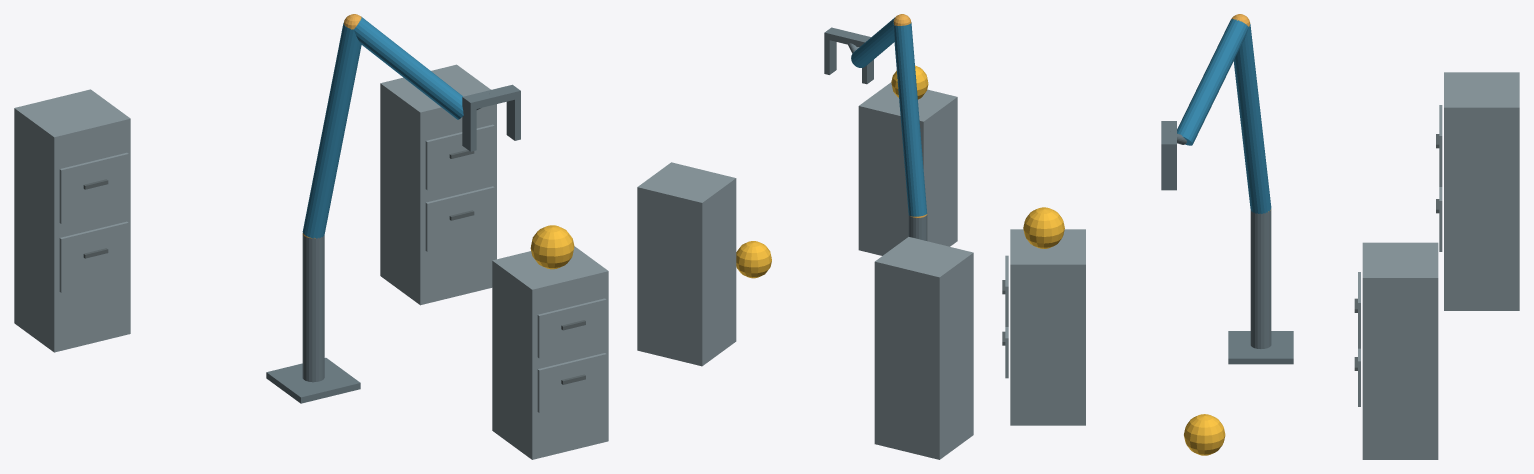
3 views of the same model, side by side, from view 1: azimuth 30°, elevation 25°; view 2: azimuth 150°, elevation 25°; view 3: azimuth 270°, elevation 25° (orthographic). The views are drawn at different scales.
Parts seen in each view (by area): view 1: cabinet_3 body, cabinet_2 body, cabinet_1 body, moving link 1, cabinet_3 drawer front.001, cabinet_3 drawer front, cabinet_2 drawer front, fixed post, cabinet_2 drawer front.001, cabinet_1 drawer front.001, cabinet_1 drawer front, moving link 2 (+4 smaller); view 2: cabinet_3 body, cabinet_2 body, cabinet_1 body, moving link 1, ball ball_2, moving link 2, gripper bridge, released ball_1, fixed post, gripper finger 1; view 3: cabinet_3 body, cabinet_2 body, cabinet_1 body, moving link 1, fixed post, moving link 2, pedestal, released ball_1, ball ball_2, gripper finger 1.
Boxes of the visible parts, box(x1,y1,x2,y2) form: cabinet_3 body: box(14, 89, 130, 352); cabinet_2 body: box(380, 64, 496, 305); cabinet_1 body: box(492, 246, 608, 459); moving link 1: box(302, 22, 361, 238); cabinet_3 drawer front.001: box(59, 152, 128, 223); cabinet_3 drawer front: box(59, 221, 128, 292); cabinet_2 drawer front: box(425, 186, 494, 251); fixed post: box(302, 235, 324, 382); cabinet_2 drawer front.001: box(425, 124, 494, 190); cabinet_1 drawer front.001: box(537, 298, 606, 358); cabinet_1 drawer front: box(537, 353, 606, 412); moving link 2: box(353, 16, 463, 119); cabinet_3 body: box(874, 237, 973, 459); cabinet_2 body: box(637, 162, 736, 366); cabinet_1 body: box(858, 82, 957, 255); moving link 1: box(893, 22, 927, 216); ball ball_2: box(736, 241, 771, 278); moving link 2: box(851, 17, 895, 67); gripper bridge: box(824, 27, 870, 47); released ball_1: box(891, 65, 928, 99); fixed post: box(908, 215, 927, 240); gripper finger 1: box(824, 39, 836, 74); cabinet_3 body: box(1444, 72, 1519, 310); cabinet_2 body: box(1362, 242, 1438, 459); cabinet_1 body: box(1010, 229, 1085, 425); moving link 1: box(1233, 24, 1271, 213); fixed post: box(1250, 209, 1271, 348); moving link 2: box(1177, 19, 1248, 145); pedestal: box(1228, 331, 1293, 364); released ball_1: box(1023, 207, 1064, 248); ball ball_2: box(1184, 414, 1225, 455); gripper finger 1: box(1161, 151, 1176, 190).
Size of the model in its own units: 1.69 by 1.48 by 1.98.
